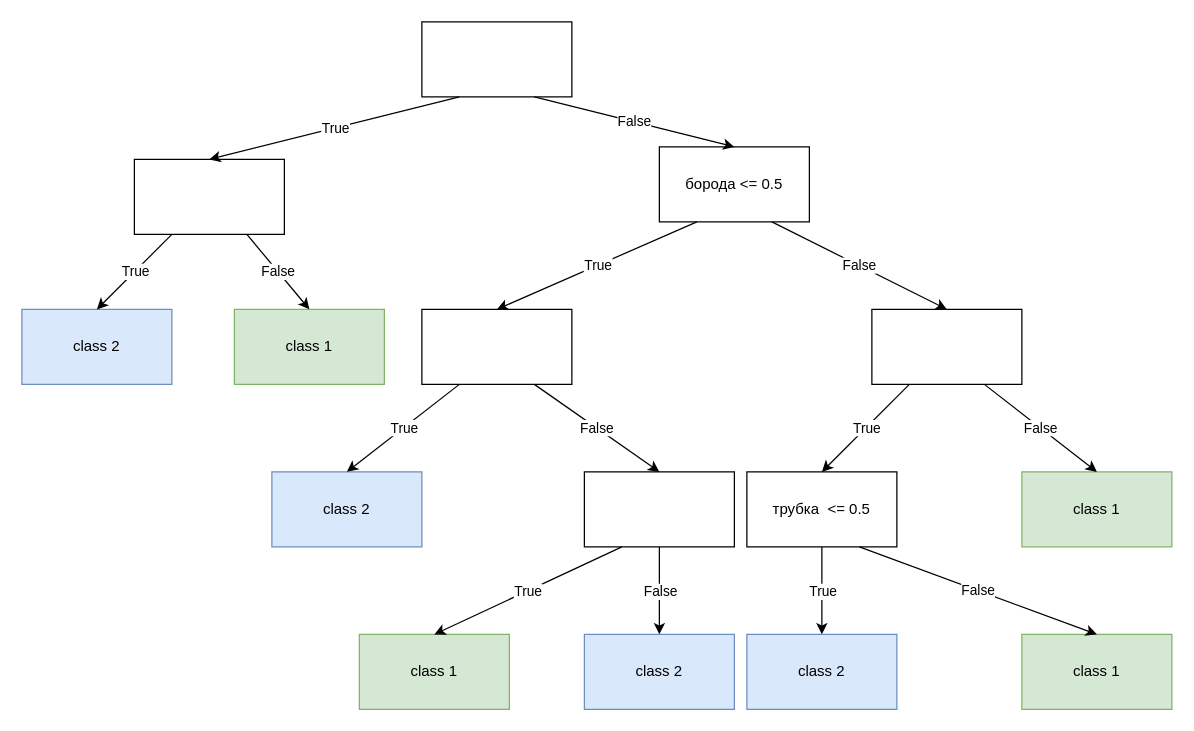
Image size: 1194x731. Some labels were removed from this diagram. Each missing label, with the box of its shape:
глаза <= 0.5: (871, 308, 1022, 384)
голова <= 0.5: (583, 471, 734, 547)
очки <= 0.5: (133, 158, 284, 234)
серьга <= 0.5: (421, 21, 572, 97)
складка <= 0.5: (421, 308, 572, 384)
